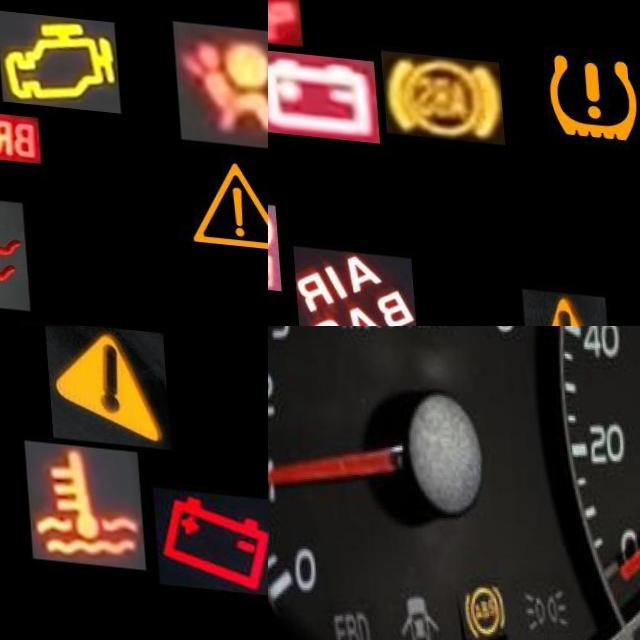Central Warning lamp: (40, 326, 165, 440), (172, 133, 268, 261), (517, 278, 607, 326)
Engine cooling system: (18, 434, 138, 561), (0, 190, 25, 308)
